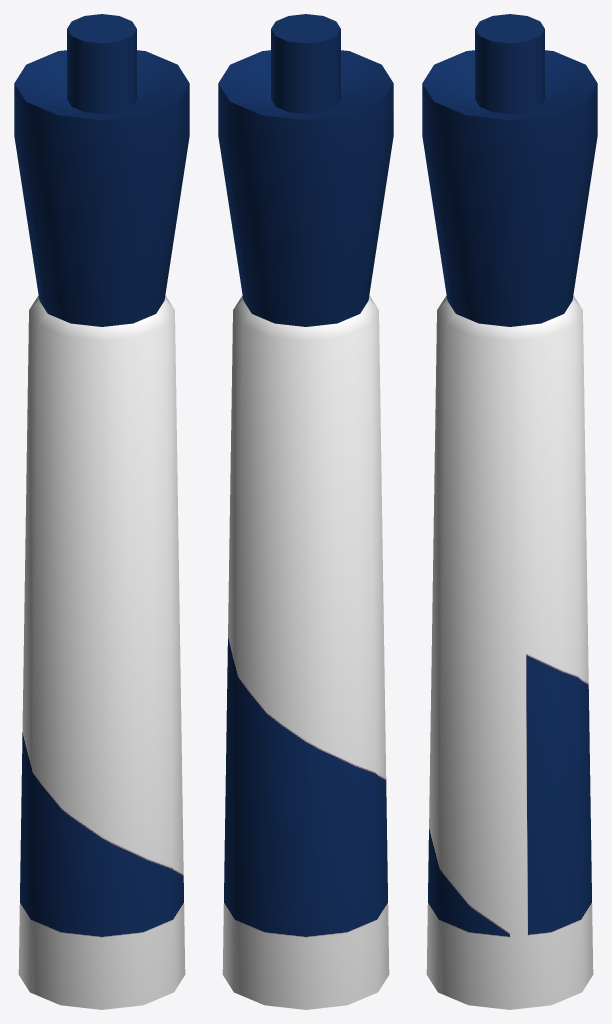
Rendered from tutorial_marker.FBX.
The picture shows the model from 3 angles, left to right: view 1: azimuth 30°, elevation 25°; view 2: azimuth 150°, elevation 25°; view 3: azimuth 270°, elevation 25°; orthographic projection.
Visible parts, largest first — view 1: tutorial_marker; view 2: tutorial_marker; view 3: tutorial_marker.
Part boxes in pixels (x1,y1,x2,y2): tutorial_marker: (14,14,189,1009); tutorial_marker: (218,14,393,1009); tutorial_marker: (422,14,597,1009).
Size of the model in its own units: 10.02 by 59.7 by 10.02.
